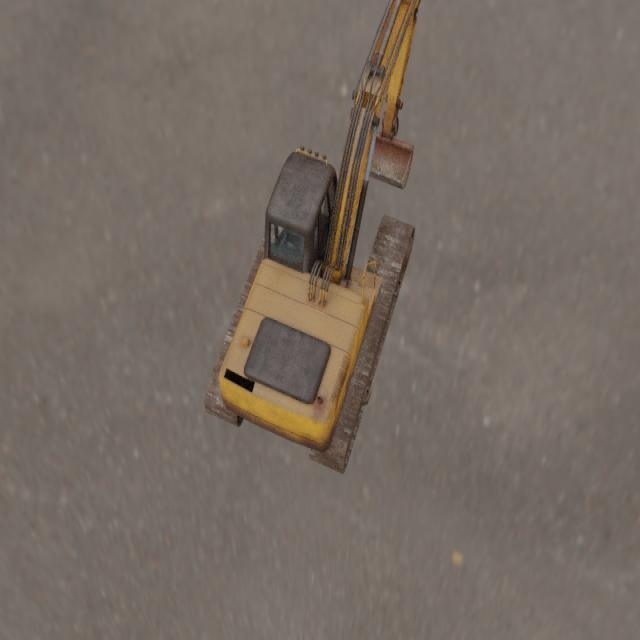excavator: (204, 0, 421, 475)
